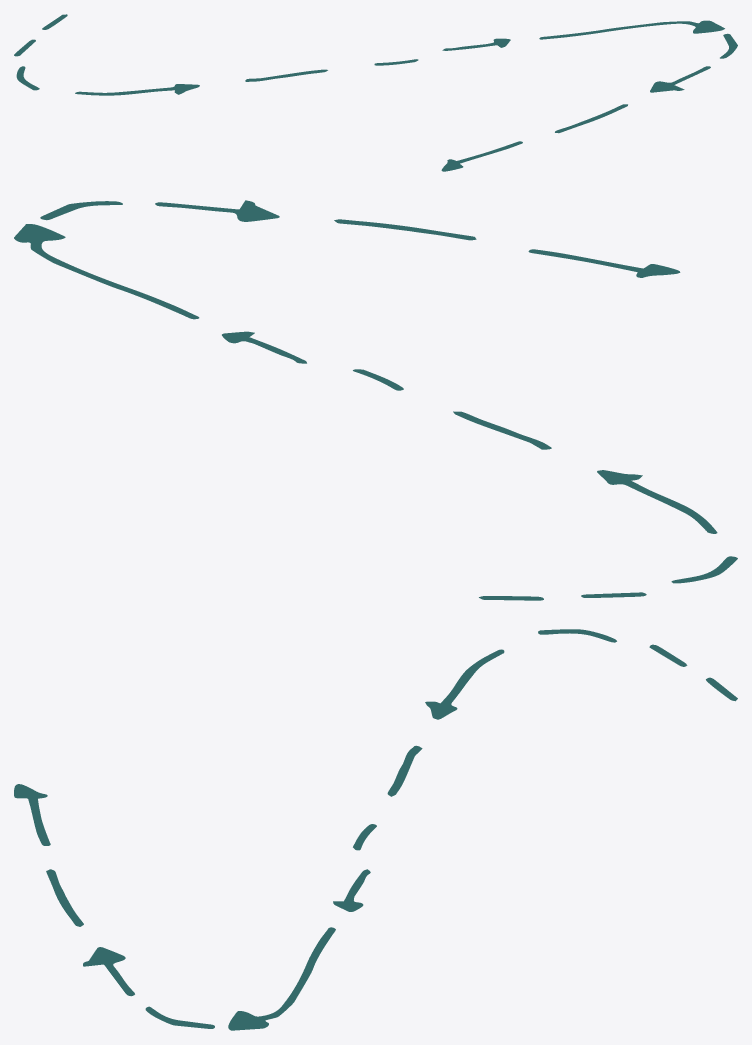
Rendered from lines1v2.dae.
3 renders of one model, top to bottom at view 1: azimuth 30°, elevation 25°; view 2: azimuth 150°, elevation 25°; view 3: azimuth 270°, elevation 25°, orthographic. The views are drawn at different scales.
Parts seen in each view (by area): view 1: Curve.016; view 2: Curve.016; view 3: Curve.016.
Boxes of the visible parts, box(x1,y1,x2,y2) form: Curve.016: box(14, 14, 737, 171); Curve.016: box(14, 200, 737, 600); Curve.016: box(14, 629, 737, 1030).
Size of the model in its own units: 2.63 by 2.01 by 0.
